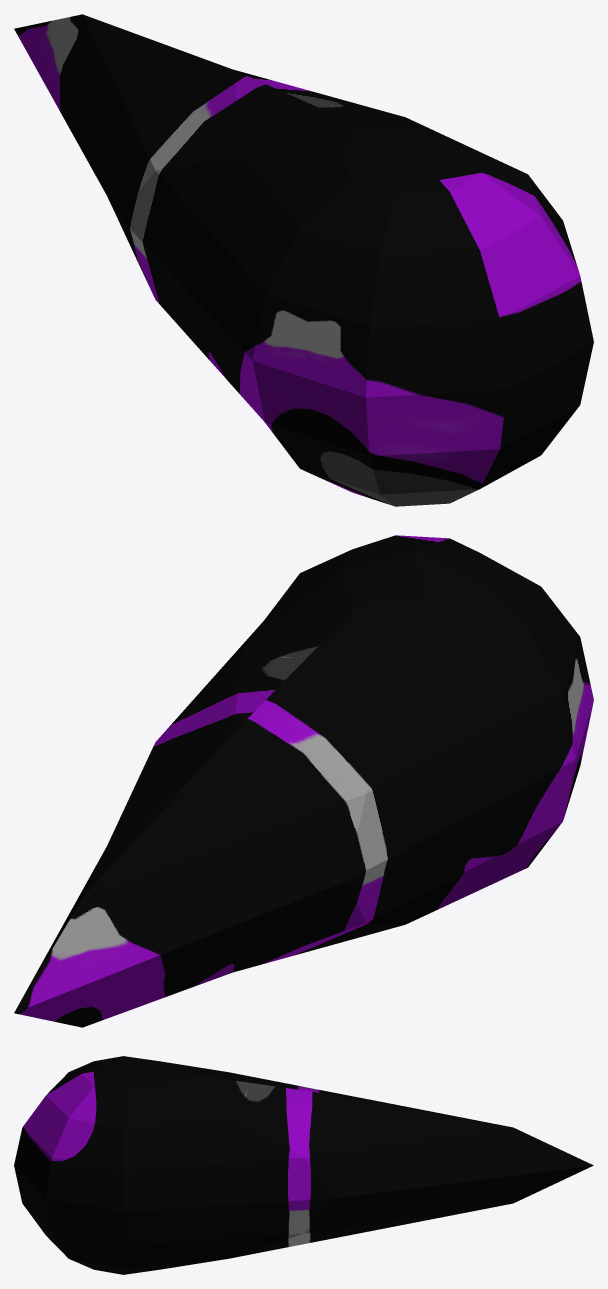
Rendered from mod_playerbullet.obj.
3 renders of one model, top to bottom at view 1: azimuth 30°, elevation 25°; view 2: azimuth 150°, elevation 25°; view 3: azimuth 270°, elevation 25°, orthographic. The views are drawn at different scales.
Parts seen in each view (by area): view 1: pSphere1; view 2: pSphere1; view 3: pSphere1.
Part boxes in pixels (box(x1,y1,x2,y2)): pSphere1: box(14, 14, 593, 506); pSphere1: box(14, 535, 593, 1027); pSphere1: box(14, 1056, 593, 1274).
Bounding box in the file's own units: 0.2566 × 0.2566 × 0.6793.
